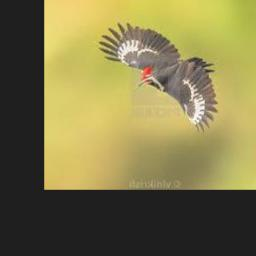Woodpecker: (98, 22, 219, 132)
